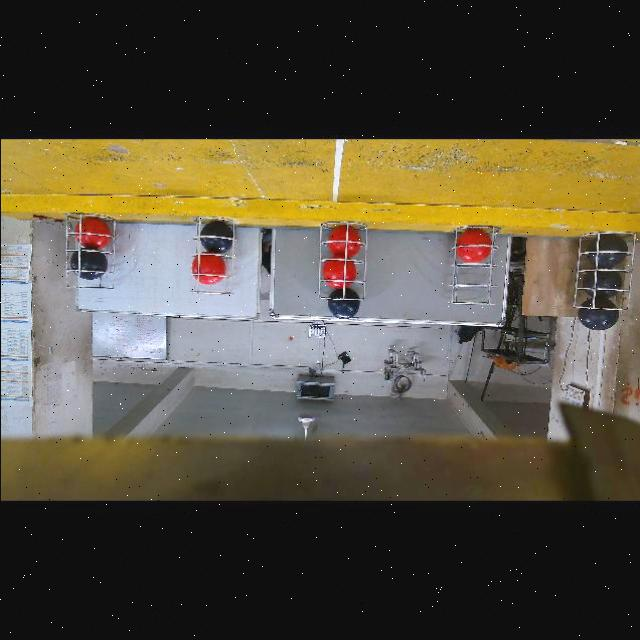P: (586, 232, 628, 267), (576, 295, 618, 329), (581, 268, 622, 300), (68, 249, 107, 278), (199, 219, 232, 252), (327, 286, 359, 318)
R: (73, 214, 111, 248), (456, 227, 491, 261), (327, 224, 360, 256), (190, 253, 225, 283), (322, 258, 356, 288)
S: (567, 231, 637, 311), (314, 212, 376, 298), (61, 210, 115, 288), (189, 213, 239, 294), (450, 226, 500, 306)
